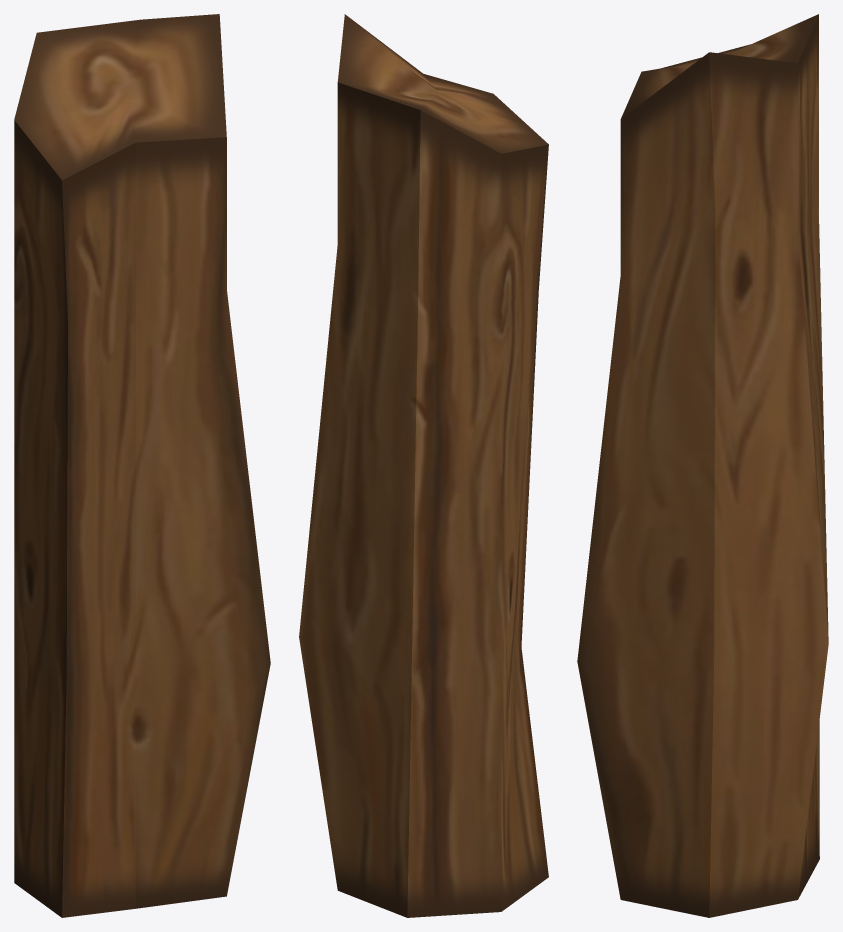
The model's file is DockPole_F.fbx.
The picture shows the model from 3 angles, left to right: view 1: azimuth 30°, elevation 25°; view 2: azimuth 150°, elevation 25°; view 3: azimuth 270°, elevation 25°; orthographic projection. The views are drawn at different scales.
Visible parts, largest first — view 1: pCylinder1; view 2: pCylinder1; view 3: pCylinder1.
Part boxes in pixels (bbox=[...]): pCylinder1: bbox=[14, 14, 270, 917]; pCylinder1: bbox=[299, 14, 548, 917]; pCylinder1: bbox=[577, 14, 828, 917].
Bounding box in the file's own units: 3.03 × 11.61 × 3.05.
